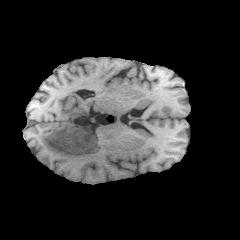glioma: (39, 124, 99, 161)
